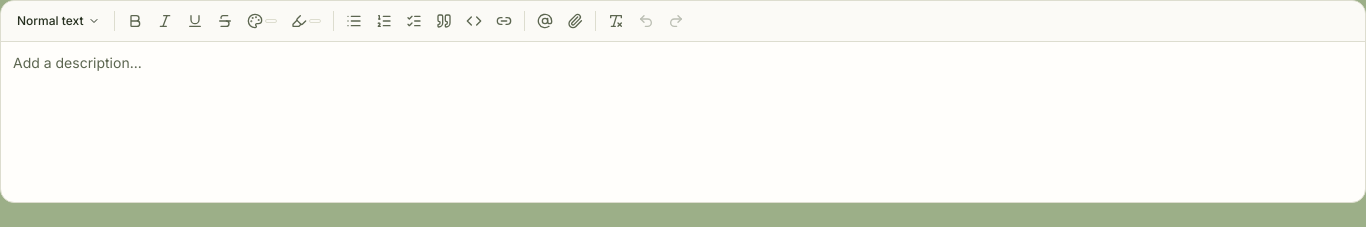
Test: RichTextEditor › menus › the text style menu lists four styles and closes when one is chosen
Click the button with aria-label "Text style": (58, 21) [9,7,108,35]
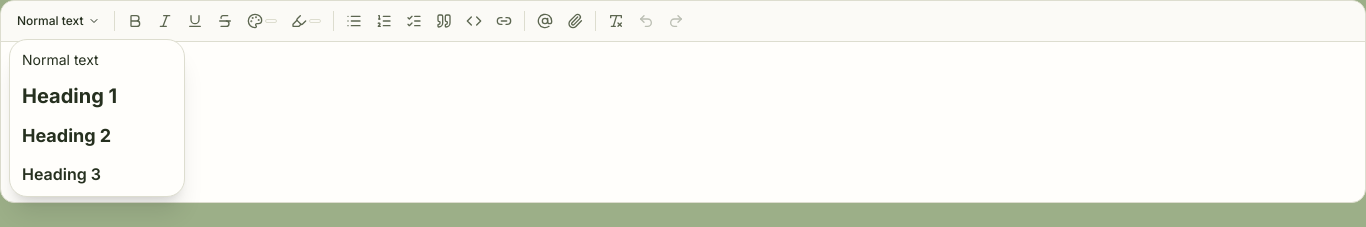
Click the menu item "Heading 2": (97, 136) [10,116,184,156]
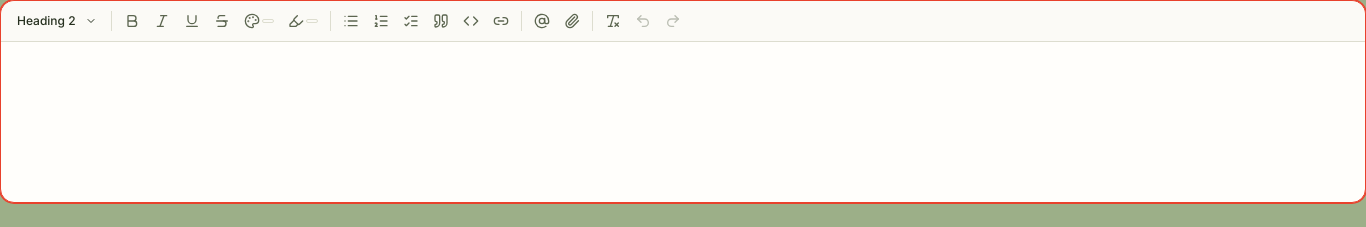
Result: the menu is gone
